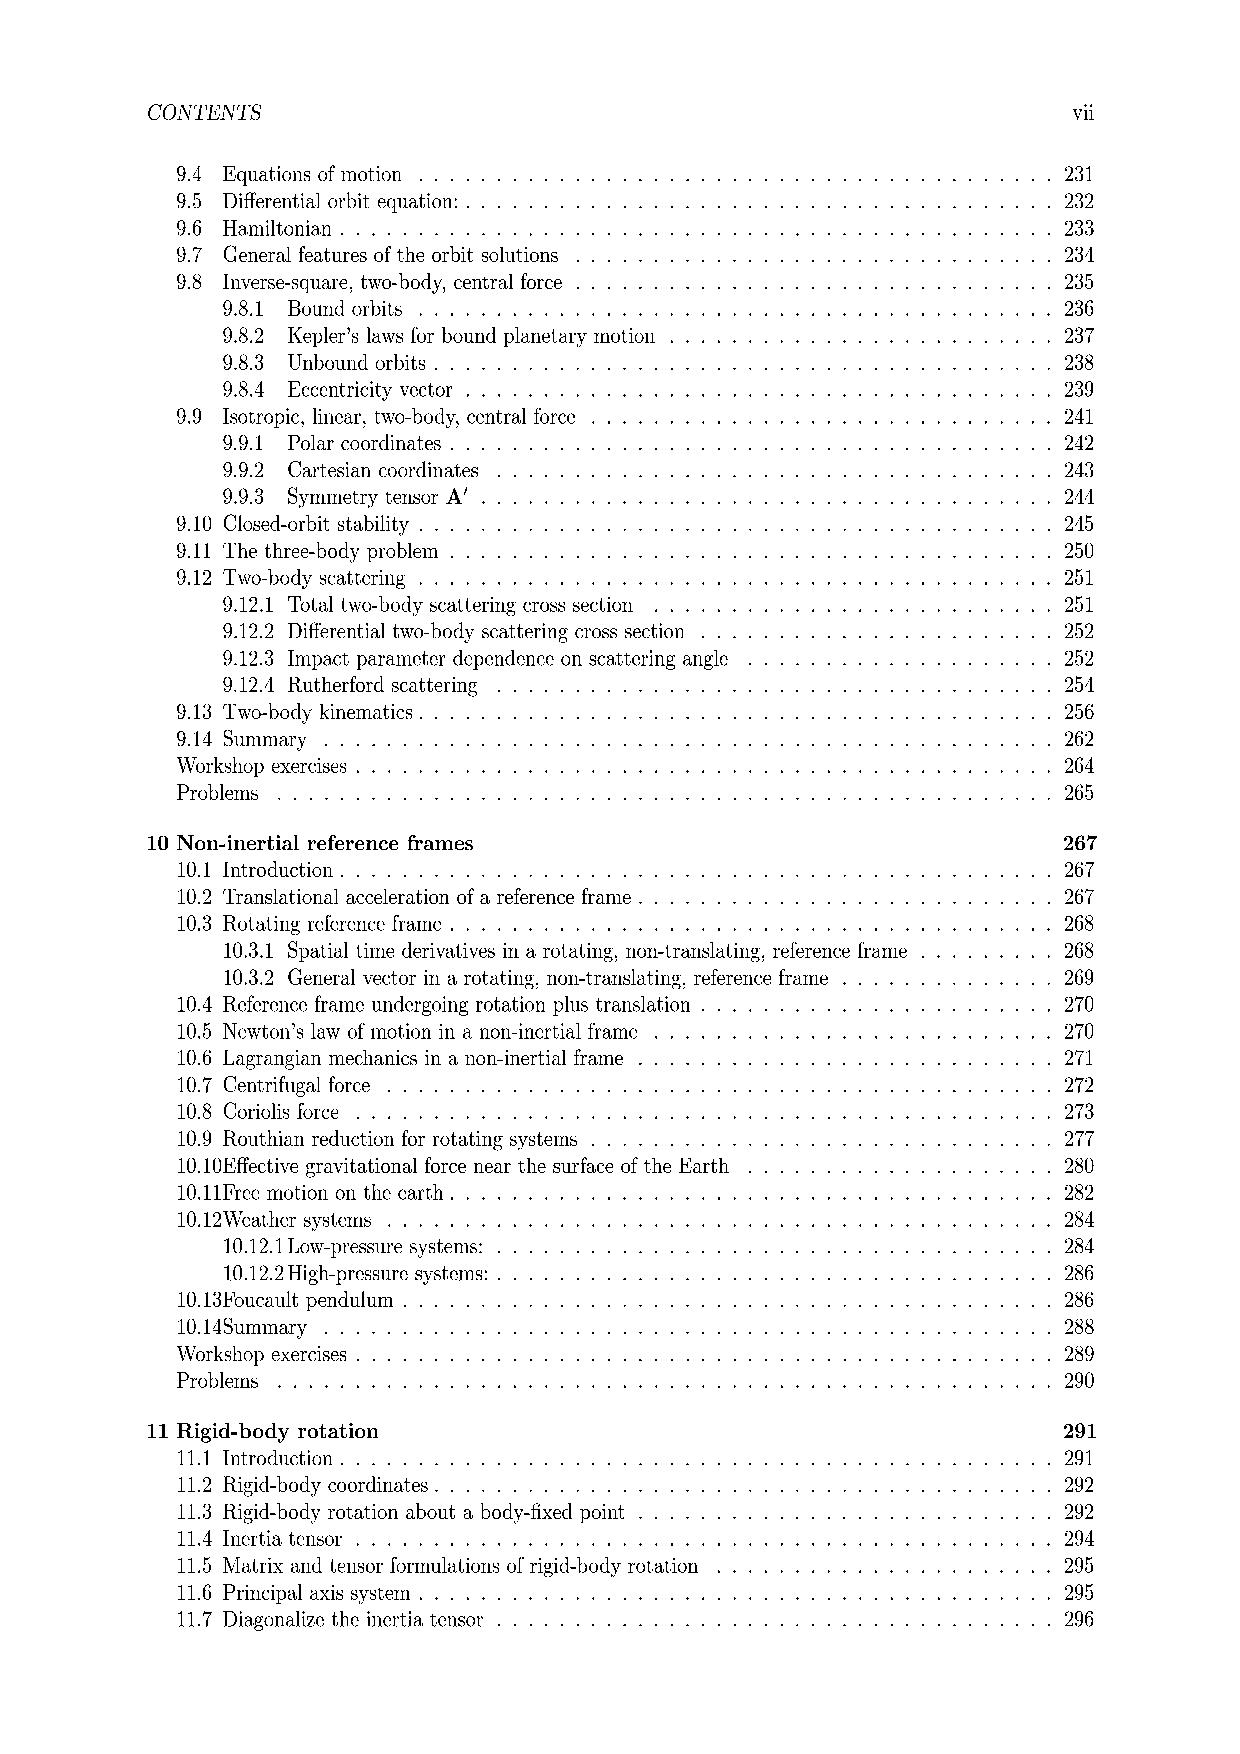TOC_chapter: (220, 937, 909, 961), (223, 966, 835, 990), (174, 990, 696, 1017), (173, 1553, 701, 1577), (174, 1153, 733, 1176), (173, 1016, 641, 1043), (223, 616, 688, 643), (223, 646, 729, 670), (217, 323, 659, 350), (173, 883, 633, 907), (176, 1499, 628, 1523), (174, 1045, 625, 1070), (168, 242, 566, 268), (172, 404, 578, 429), (172, 270, 566, 294), (221, 593, 636, 616), (176, 1129, 582, 1147), (221, 1257, 488, 1286), (176, 1608, 486, 1631), (174, 911, 450, 935), (172, 191, 458, 213), (220, 374, 455, 401), (177, 1580, 412, 1606), (220, 456, 480, 480), (145, 833, 474, 852), (174, 1469, 427, 1494), (174, 161, 405, 187), (174, 1182, 447, 1204), (176, 539, 440, 561), (174, 566, 409, 590), (141, 1418, 376, 1443), (221, 675, 480, 697), (220, 429, 446, 454), (176, 513, 411, 535), (220, 484, 466, 506), (225, 1235, 484, 1253), (174, 701, 416, 721), (176, 1287, 395, 1308), (216, 350, 428, 372), (173, 1341, 349, 1366), (219, 297, 404, 319), (176, 1074, 373, 1094), (176, 1206, 373, 1227), (170, 856, 333, 880), (176, 1099, 340, 1122), (172, 754, 348, 774), (172, 1312, 310, 1338), (174, 1445, 337, 1467), (176, 1527, 344, 1547), (173, 216, 337, 236), (176, 726, 309, 750), (174, 780, 262, 803), (174, 1370, 258, 1389)
TOC_pagenumber: (1057, 1414, 1099, 1439), (1060, 1551, 1096, 1576), (1063, 376, 1096, 401), (1063, 753, 1098, 777), (1062, 937, 1096, 961), (1062, 1500, 1096, 1525), (1057, 323, 1094, 346), (1060, 1072, 1096, 1095), (1063, 827, 1096, 851), (1062, 1045, 1095, 1070), (1060, 672, 1095, 695), (1062, 701, 1096, 723), (1062, 1525, 1096, 1547), (1063, 886, 1096, 909), (1063, 1019, 1096, 1041), (1062, 1581, 1095, 1604), (1060, 1606, 1098, 1627), (1063, 1099, 1098, 1121), (1062, 1154, 1096, 1176), (1064, 268, 1096, 291), (1063, 965, 1095, 988), (1064, 1208, 1096, 1231), (1060, 539, 1096, 560), (1063, 244, 1096, 266), (1063, 781, 1096, 803), (1062, 1474, 1095, 1495), (1066, 483, 1095, 507), (1063, 565, 1092, 589), (1059, 1127, 1096, 1146), (1062, 297, 1096, 317), (1062, 1290, 1096, 1310), (1062, 1315, 1096, 1335), (1063, 648, 1095, 670), (1064, 1341, 1096, 1362), (1066, 158, 1094, 183), (1060, 1182, 1096, 1201), (1060, 433, 1094, 454), (1062, 727, 1095, 747), (1063, 404, 1092, 427), (1060, 191, 1095, 209), (1063, 859, 1098, 878), (1063, 217, 1095, 238), (1064, 994, 1096, 1015), (1064, 1235, 1092, 1257), (1064, 458, 1094, 479), (1063, 593, 1092, 615), (1064, 1261, 1094, 1283), (1062, 513, 1092, 533), (1060, 1370, 1095, 1388), (1063, 354, 1095, 373), (1066, 620, 1094, 641), (1066, 1447, 1094, 1468), (1064, 913, 1092, 933)
chapter: (144, 97, 266, 125)
